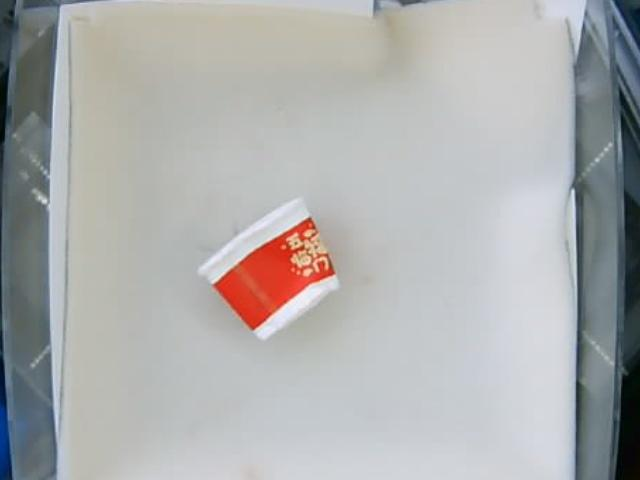Cup: (198, 194, 342, 340)
